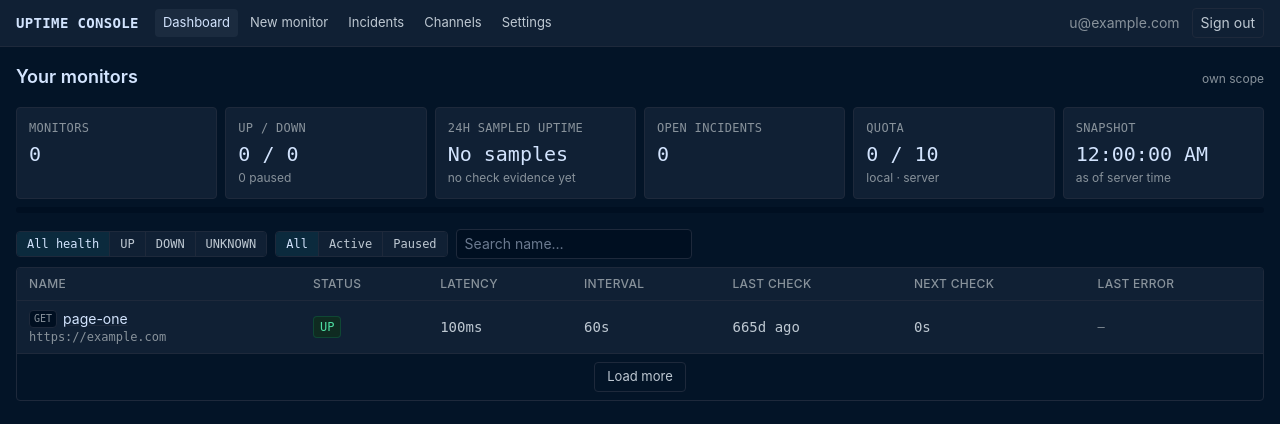
Test: dashboard › appends keyset pages via Load more
Check: the link "page-one" is shown, box [63,309,128,329]
Click the button "Load more": {"x": 640, "y": 377} [594,362,686,392]
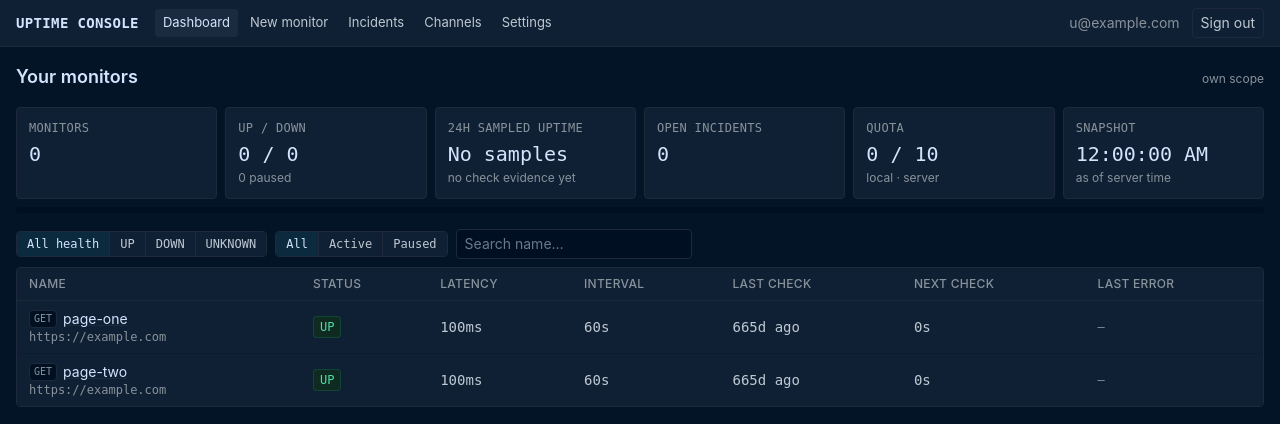
Check: the link "page-one" is shown, box [63,309,128,329]
Check: the link "page-two" is shown, box [63,362,127,382]
